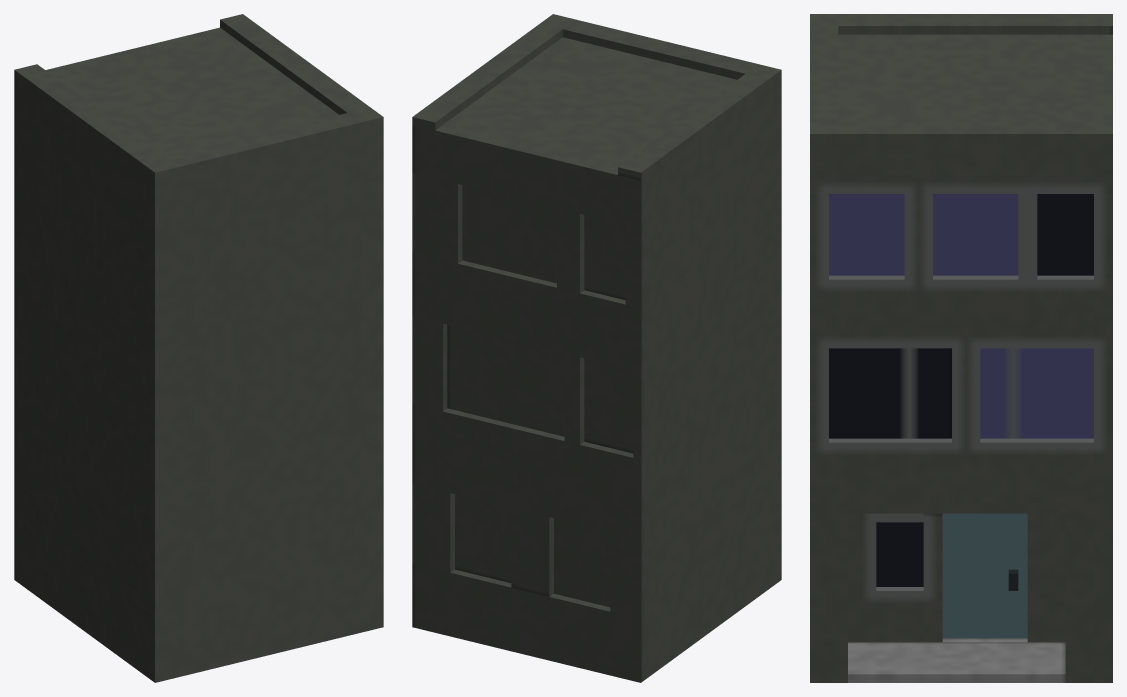
File: u_sciana_przejscie_p_zam.dae
The picture shows the model from 3 angles, left to right: view 1: azimuth 30°, elevation 25°; view 2: azimuth 150°, elevation 25°; view 3: azimuth 270°, elevation 25°; orthographic projection. The views are drawn at different scales.
Parts seen in each view (by area): view 1: Content; view 2: Content; view 3: Content.
Part boxes in pixels (x1,y1,x2,y2): Content: [14, 14, 383, 682]; Content: [412, 14, 781, 682]; Content: [810, 14, 1112, 682].
Size of the model in its own units: 30 by 64 by 32.
Materials: 1 (1 with a texture image).
